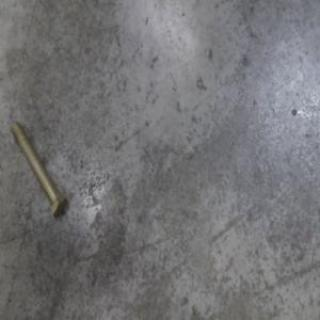Bolttrack_idkeyframe: (11, 112, 66, 219)
